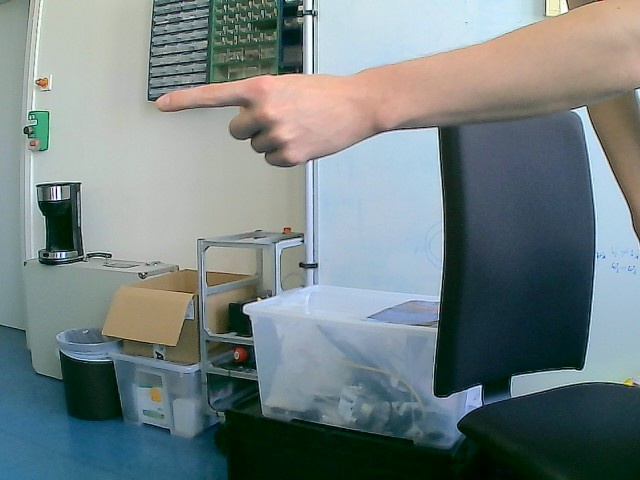right: (154, 71, 373, 169)
